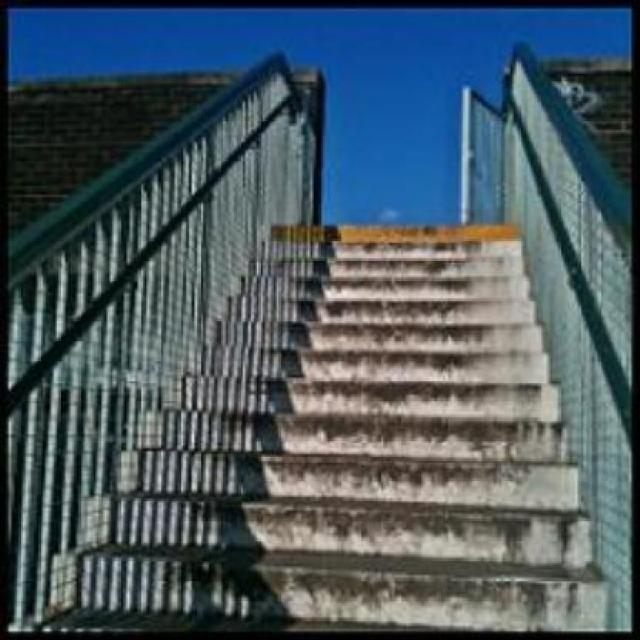stair: (38, 208, 618, 640)
